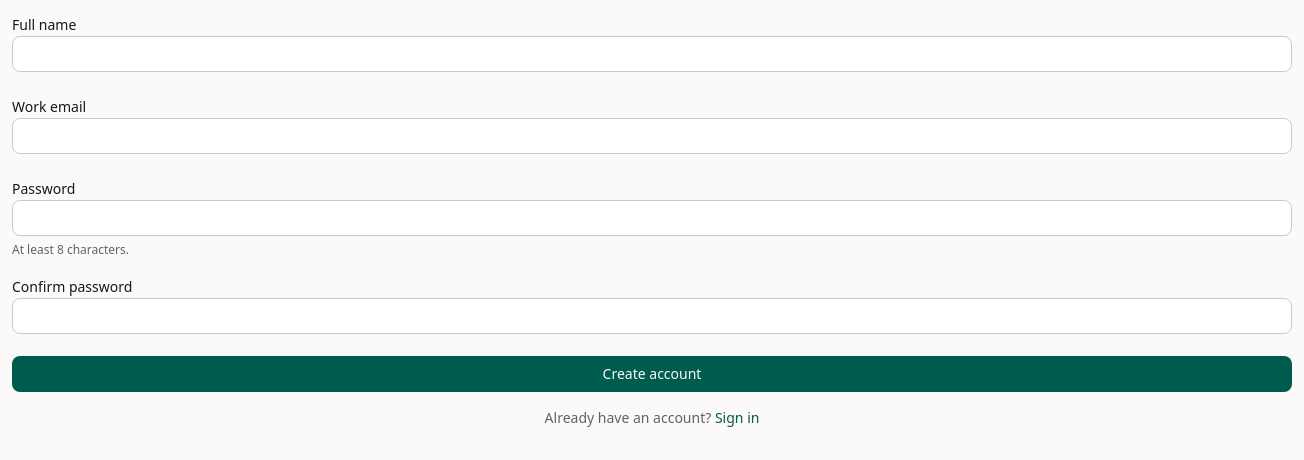
Test: RegisterForm › requires matching passwords
Type "Ada Lovelace" into the field labelled "Full name".
click(652, 54); type("Ada Lovelace")  # box [12,36,1292,72]
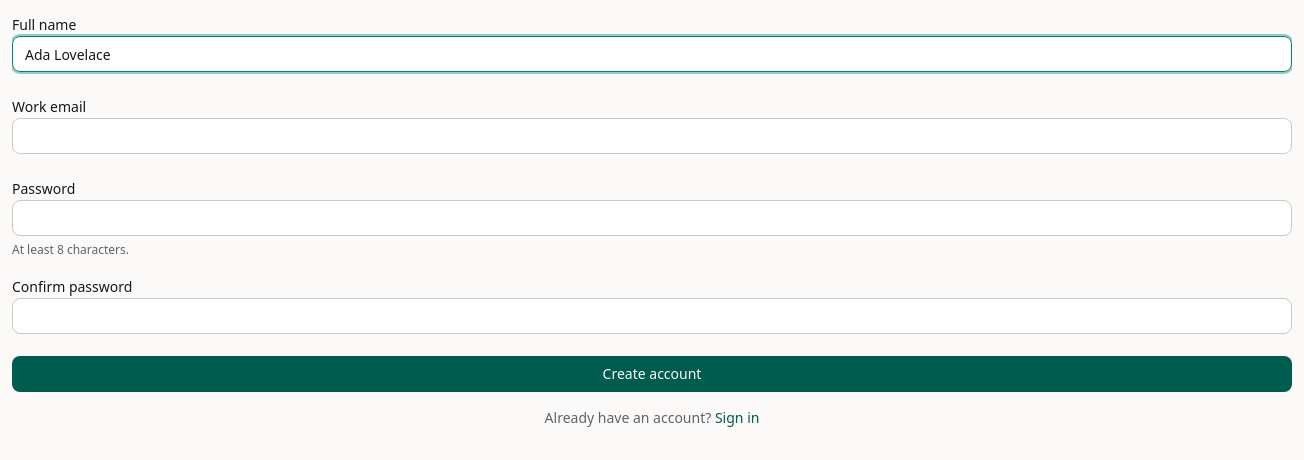
Type "ada@example.com" into the field labelled "Work email".
click(652, 136); type("ada@example.com")  # box [12,118,1292,154]
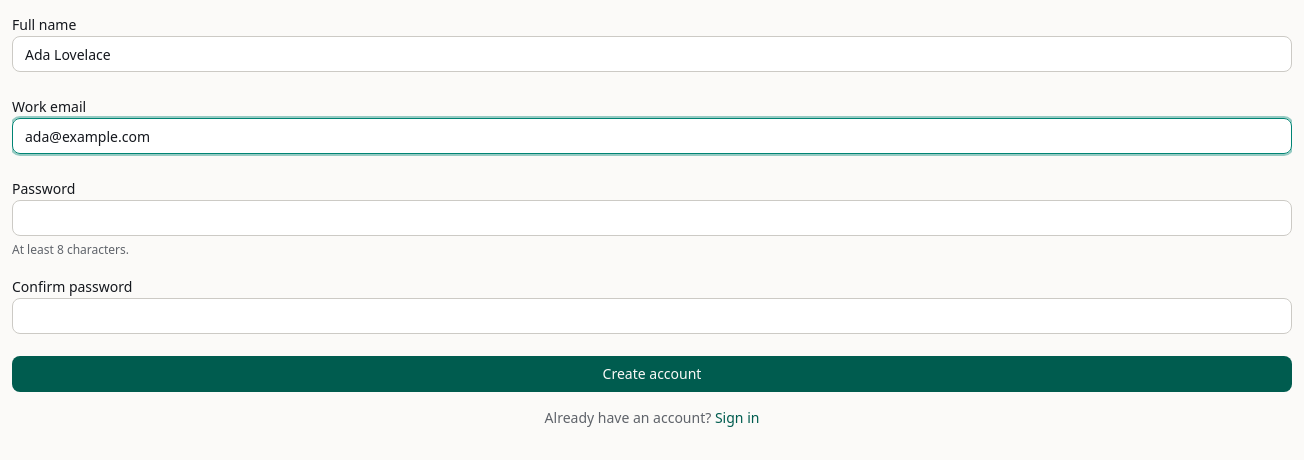
Type "Passw0rdOK1" into the password field labelled "Password".
click(652, 218); type("Passw0rdOK1")  # box [12,200,1292,236]
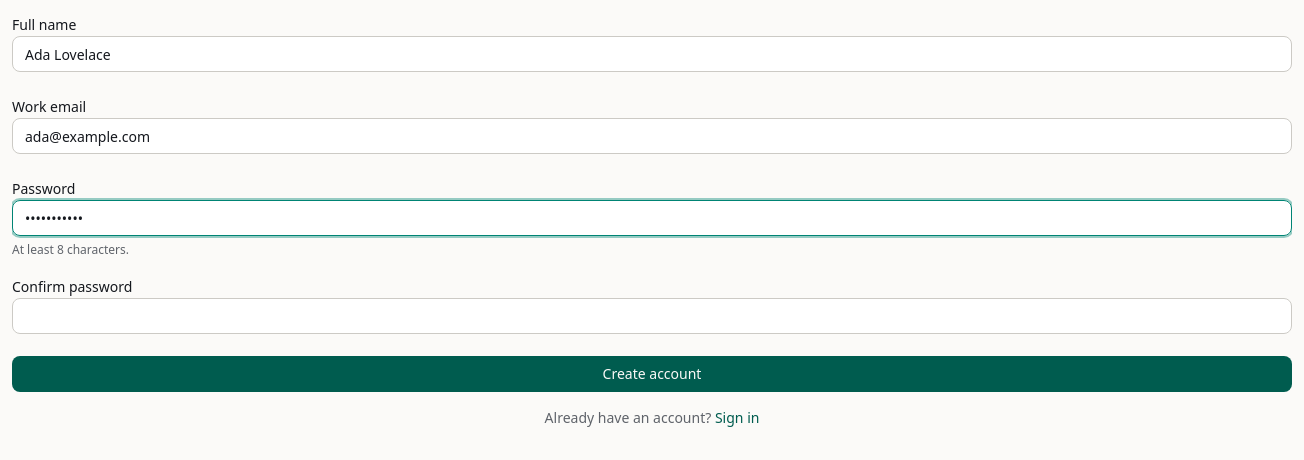
Type "Different1" into the password field labelled "Confirm password".
click(652, 316); type("Different1")  # box [12,298,1292,334]
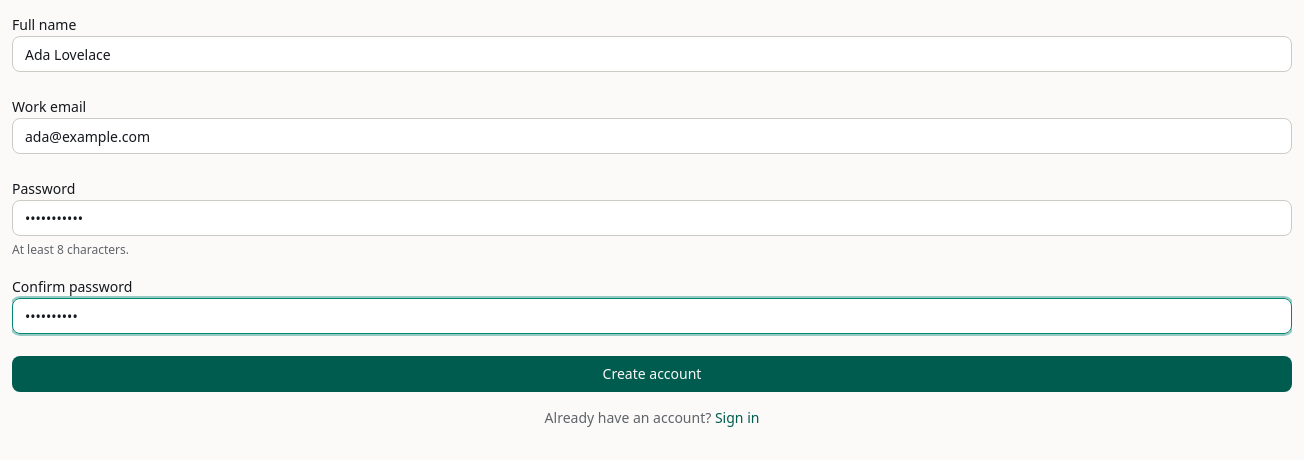
Click the button "Create account".
click(652, 374)  # box [12,356,1292,392]
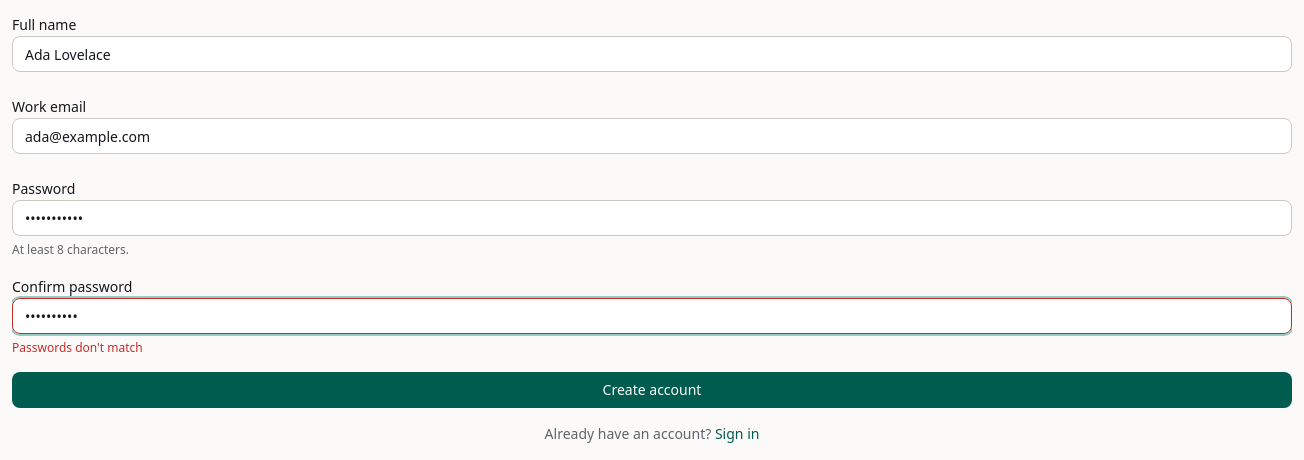
Expected: the text "Passwords don't match" is shown, [12,339,143,356]
